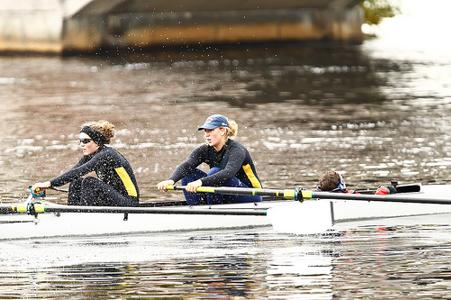person: (158, 114, 266, 205)
